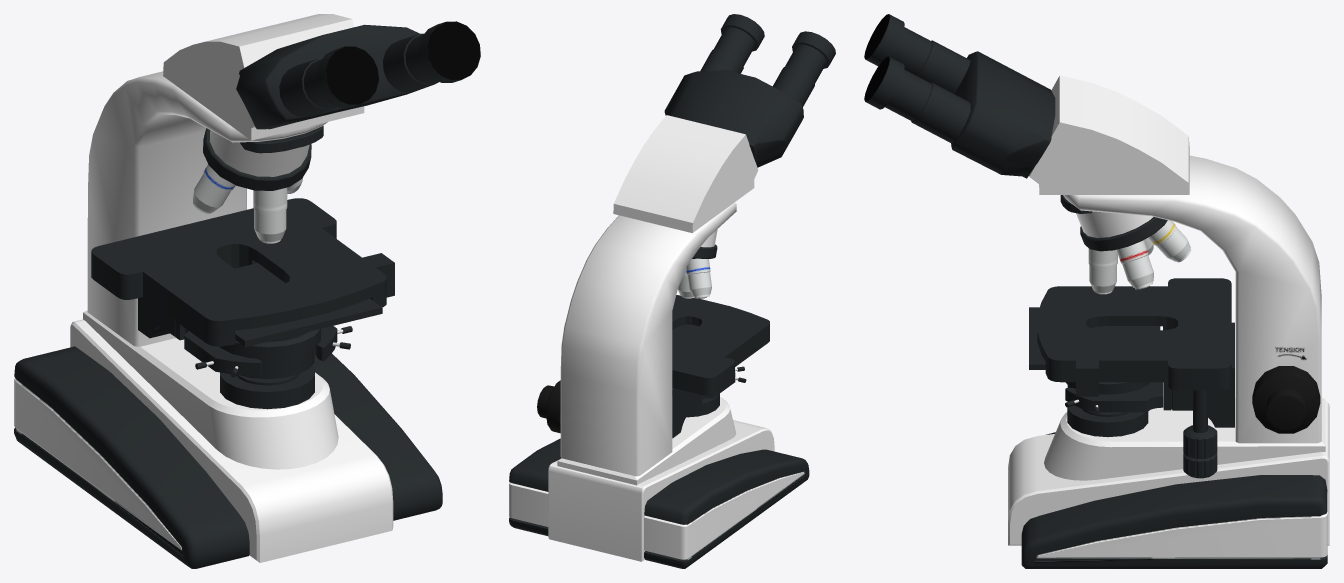
Rendered from microscope_textured.obj.
The picture shows the model from 3 angles, left to right: view 1: azimuth 30°, elevation 25°; view 2: azimuth 150°, elevation 25°; view 3: azimuth 270°, elevation 25°; orthographic projection. The views are drawn at different scales.
Visible parts, largest first — view 1: Microscope; view 2: Microscope; view 3: Microscope.
Part boxes in pixels (<box>): Microscope: <box>14,14,480,568</box>; Microscope: <box>509,14,835,568</box>; Microscope: <box>864,14,1329,568</box>.
Size of the model in its own units: 0.2253 by 0.4767 by 0.4188.
